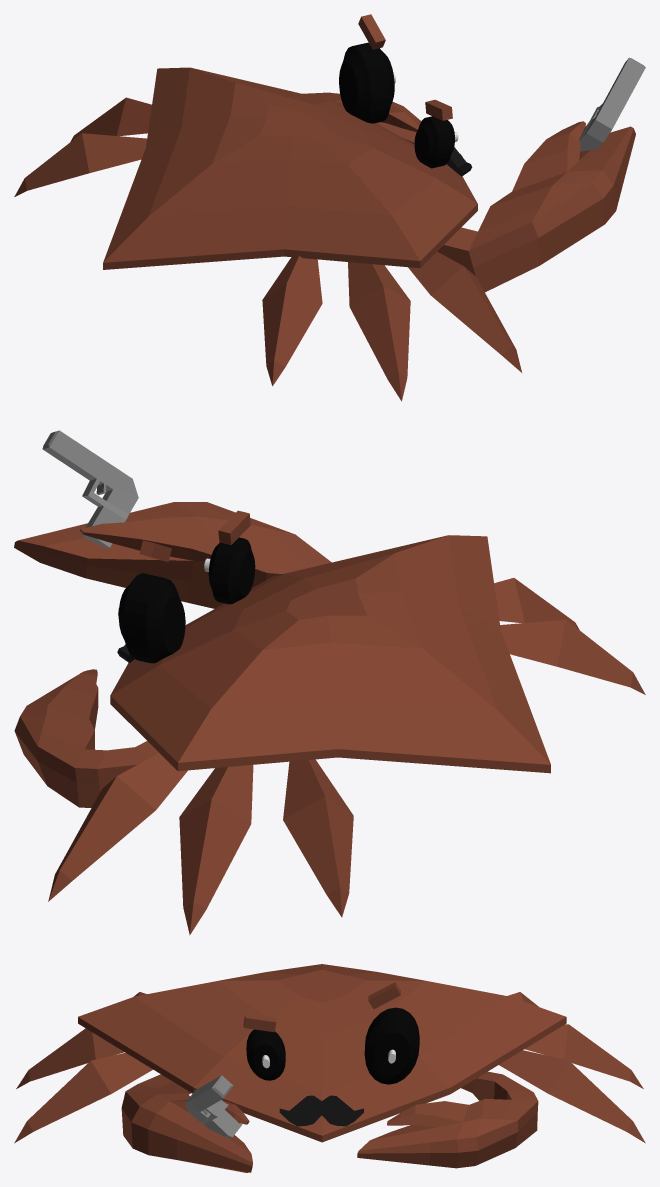
The model's file is Crab.fbx.
3 views of the same model, one above another, from view 1: azimuth 30°, elevation 25°; view 2: azimuth 150°, elevation 25°; view 3: azimuth 270°, elevation 25° (orthographic). The views are drawn at different scales.
Visible parts, largest first — view 1: CrabBandito; view 2: CrabBandito; view 3: CrabBandito.
Part boxes in pixels (x1,y1,x2,y2): CrabBandito: (14, 14, 645, 401); CrabBandito: (14, 430, 645, 935); CrabBandito: (14, 964, 645, 1172).
Bounding box in the file's own units: 31.24 × 11.8 × 37.2.
